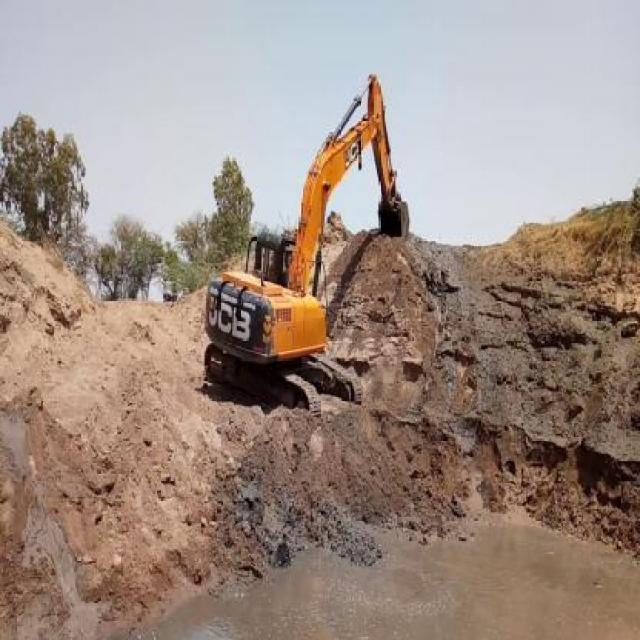Excavator: (202, 72, 410, 414)
